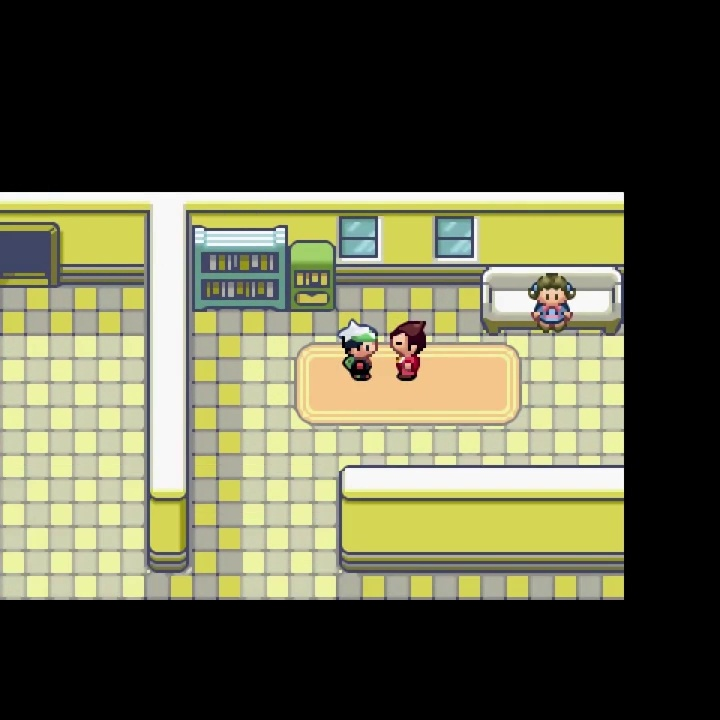npc: (527, 270, 579, 339), (335, 316, 382, 383), (387, 317, 431, 383)
